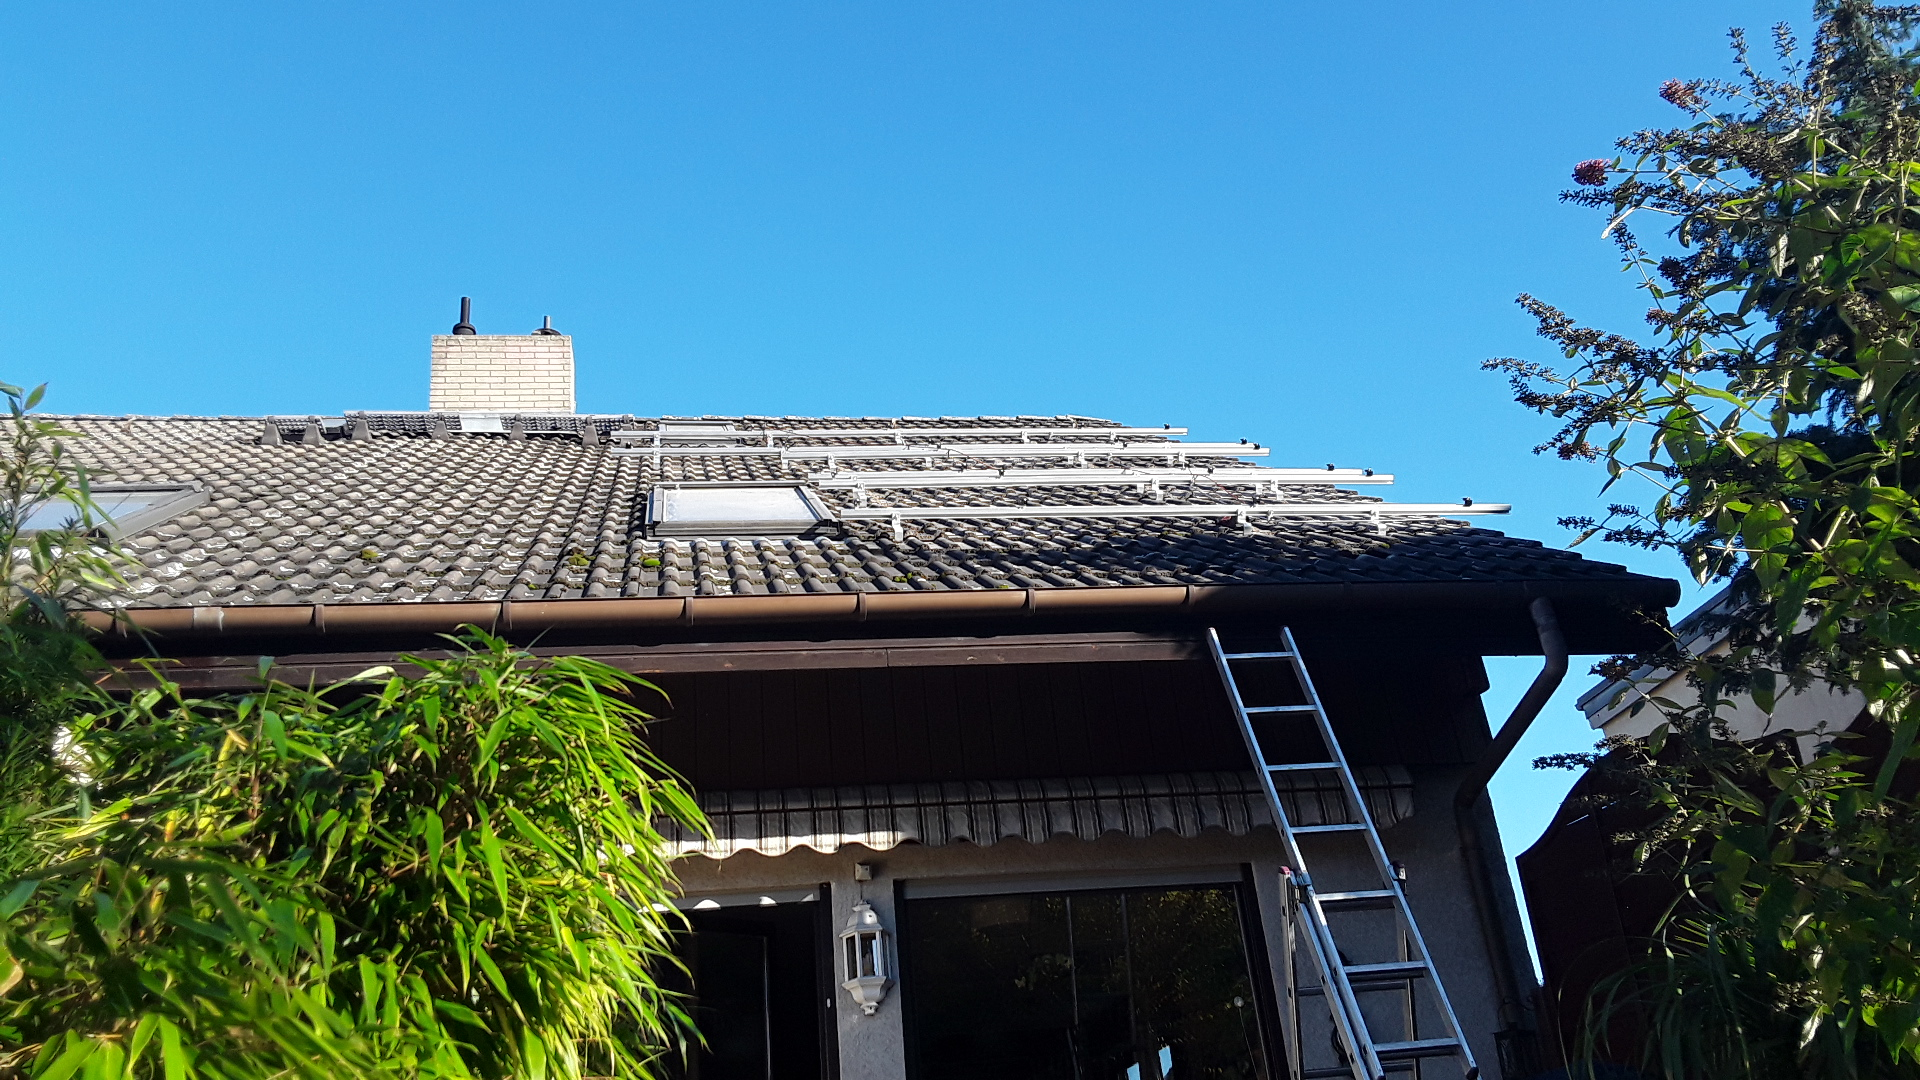hook: (1370, 509, 1386, 535), (1237, 508, 1251, 535), (891, 512, 903, 542), (1151, 477, 1164, 500), (1270, 479, 1283, 501), (1251, 471, 1263, 495), (856, 483, 866, 508), (1133, 472, 1145, 493), (778, 448, 789, 469), (1062, 447, 1073, 464), (1077, 450, 1087, 469), (1164, 444, 1174, 464), (827, 454, 837, 471), (923, 448, 932, 465), (1179, 451, 1189, 465), (1021, 430, 1030, 444), (653, 450, 659, 469), (851, 476, 856, 498), (894, 433, 903, 444), (653, 433, 659, 447), (767, 433, 773, 446), (1110, 431, 1116, 443)
